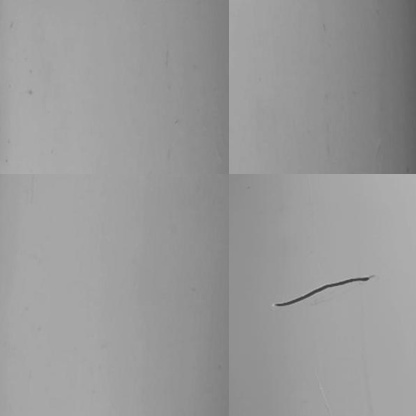fengxi: (270, 276, 370, 305)
